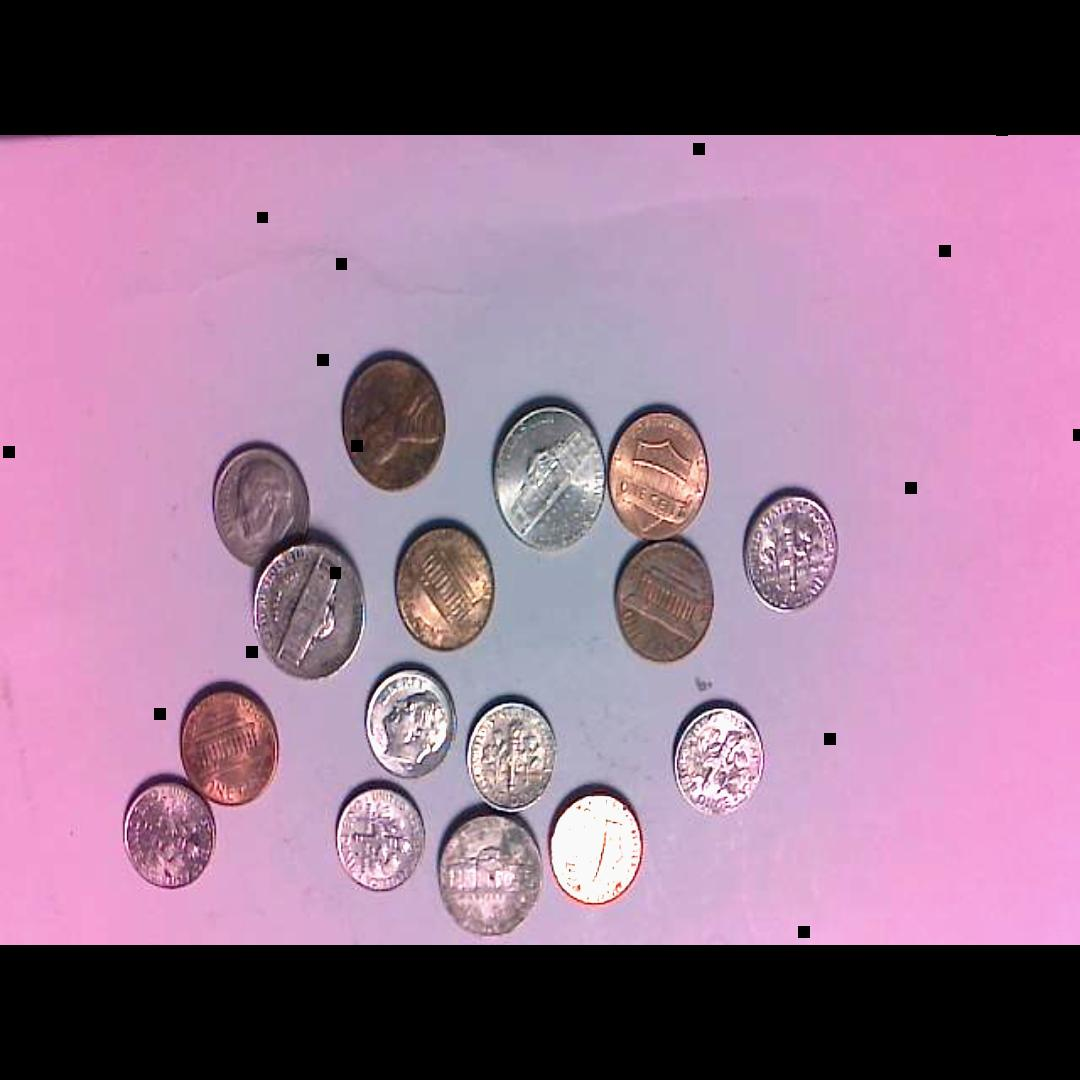Dime: (213, 440, 307, 562), (739, 489, 834, 608), (670, 700, 764, 813), (123, 778, 216, 891), (332, 783, 425, 894), (361, 670, 452, 775), (461, 695, 550, 798)
Nickel: (496, 403, 613, 552), (250, 542, 363, 685), (430, 800, 542, 942)
Penny: (343, 359, 447, 498), (611, 532, 717, 668), (611, 403, 716, 537), (186, 673, 287, 800), (390, 521, 489, 648), (537, 770, 636, 896)
